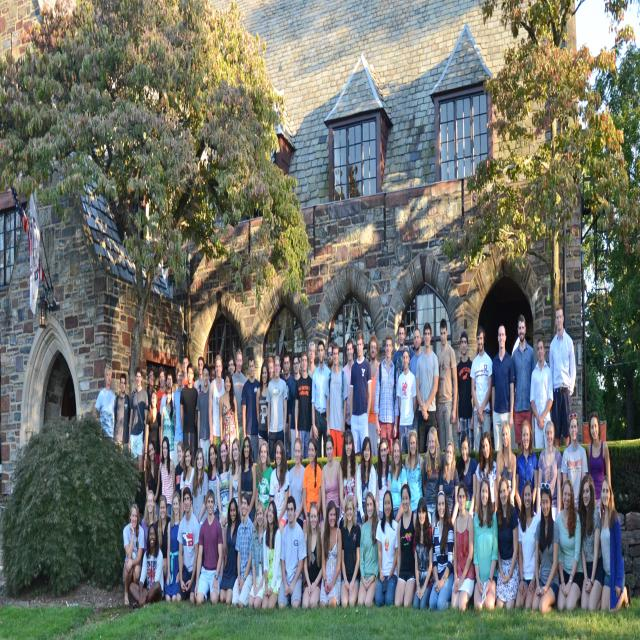body: (598, 474, 630, 614), (548, 303, 577, 449), (471, 476, 502, 612), (554, 478, 585, 613), (578, 473, 606, 611), (531, 482, 560, 614), (277, 494, 308, 611), (495, 474, 521, 612), (194, 488, 224, 607), (515, 479, 541, 610), (128, 520, 165, 612), (511, 314, 536, 450), (451, 481, 476, 613), (491, 323, 516, 451), (428, 489, 454, 612), (416, 322, 440, 455), (393, 484, 418, 610), (374, 332, 399, 458), (175, 486, 200, 607), (357, 490, 382, 609), (436, 318, 458, 453), (260, 497, 286, 611), (470, 325, 493, 453), (324, 341, 349, 458), (232, 491, 256, 611), (349, 329, 372, 454), (375, 489, 399, 608), (535, 420, 562, 524), (560, 413, 588, 511), (530, 336, 554, 450), (587, 411, 611, 522), (319, 499, 343, 610), (412, 495, 434, 612), (320, 433, 341, 553), (311, 340, 332, 458), (266, 356, 288, 468), (340, 493, 361, 610), (423, 426, 445, 536), (302, 501, 324, 610), (515, 418, 538, 521), (396, 345, 417, 456), (219, 496, 240, 606), (216, 439, 232, 582), (456, 330, 474, 456), (128, 365, 149, 473), (122, 503, 144, 606), (164, 491, 184, 603), (242, 354, 262, 466), (294, 348, 313, 461), (218, 370, 240, 466), (404, 426, 427, 516), (438, 438, 461, 527), (302, 436, 322, 537), (366, 332, 382, 458), (248, 499, 266, 610), (356, 436, 377, 531), (269, 439, 290, 534), (92, 362, 116, 445), (456, 431, 478, 520), (339, 427, 359, 524), (475, 431, 498, 515), (180, 362, 198, 467), (231, 346, 248, 456), (237, 435, 257, 526), (208, 354, 226, 455), (387, 438, 408, 524), (496, 418, 516, 508), (408, 326, 424, 436), (154, 494, 172, 590), (288, 437, 306, 531), (196, 363, 212, 468), (113, 373, 132, 461), (254, 441, 273, 526), (190, 446, 210, 526), (280, 352, 294, 461), (144, 388, 163, 467), (289, 352, 302, 460), (173, 363, 186, 468), (159, 384, 176, 464), (375, 436, 391, 520), (144, 438, 160, 520), (393, 322, 416, 378), (179, 446, 196, 520), (256, 362, 270, 451), (160, 436, 175, 514), (342, 337, 354, 431), (207, 442, 221, 522), (141, 490, 158, 554), (228, 437, 242, 508), (160, 368, 174, 417), (175, 440, 185, 503), (193, 356, 210, 391), (146, 367, 158, 411), (156, 366, 167, 412), (182, 355, 195, 388), (307, 340, 317, 380), (326, 342, 334, 372), (227, 355, 235, 378), (267, 356, 274, 381), (210, 367, 217, 384), (172, 381, 178, 392)
